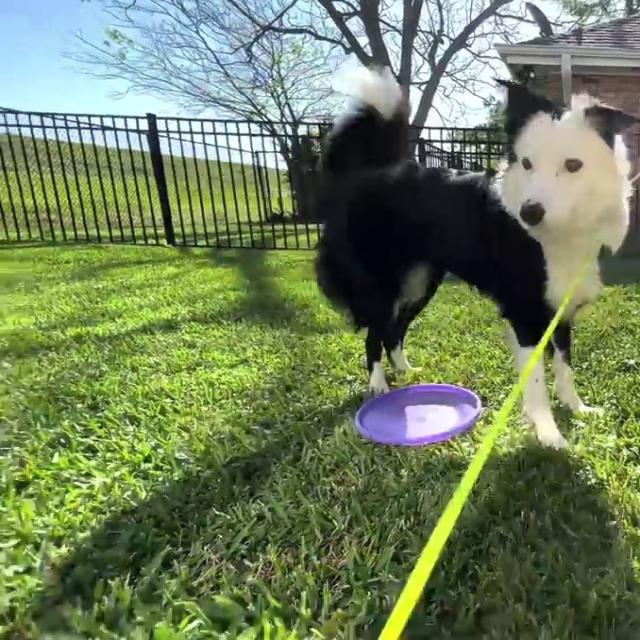Dog: (315, 68, 640, 450)
